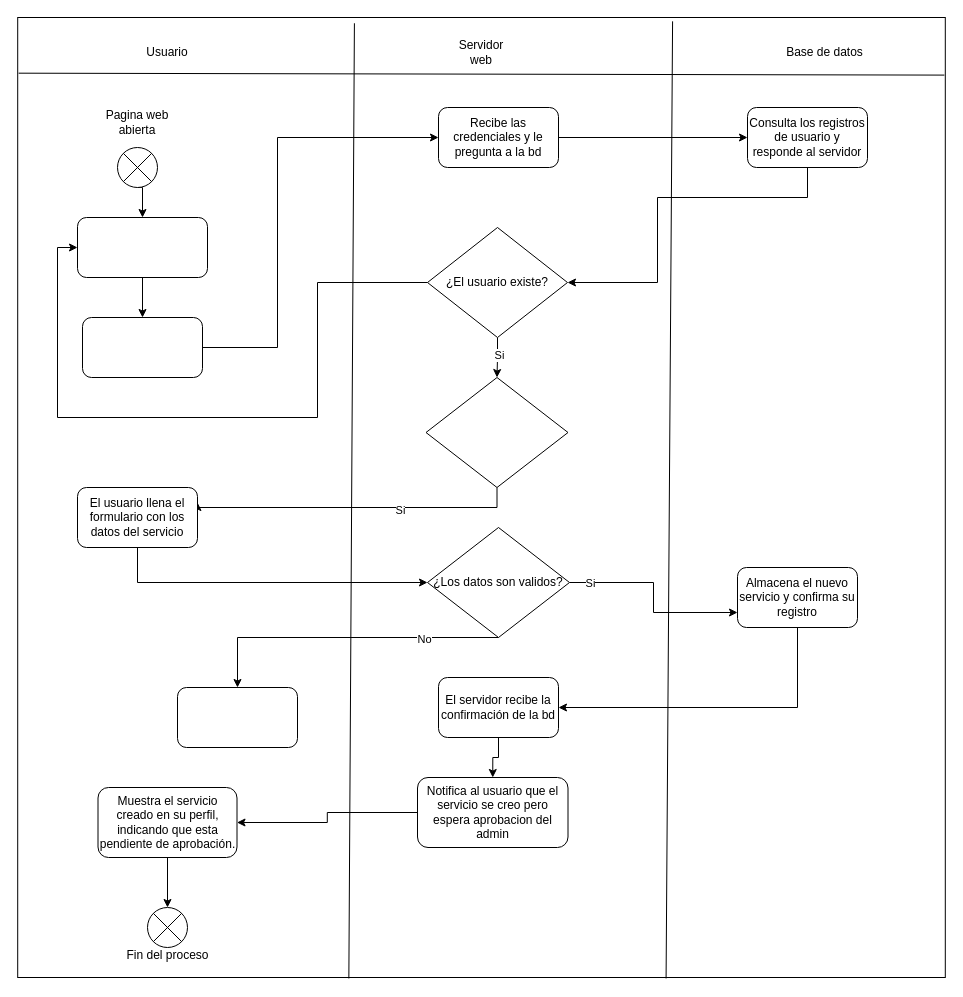
The diagram is 963 pixels wide and 997 high, and some of its shapes have lost their labels. Each missing label, with the centre of its shape:
"Iniciar sesión" goes at [142,347].
"Los campos deben ser corregidos" goes at [237,717].
"Registrarse" goes at [142,247].
"¿El usuario tiene el rol de oferente?" goes at [496,432].
